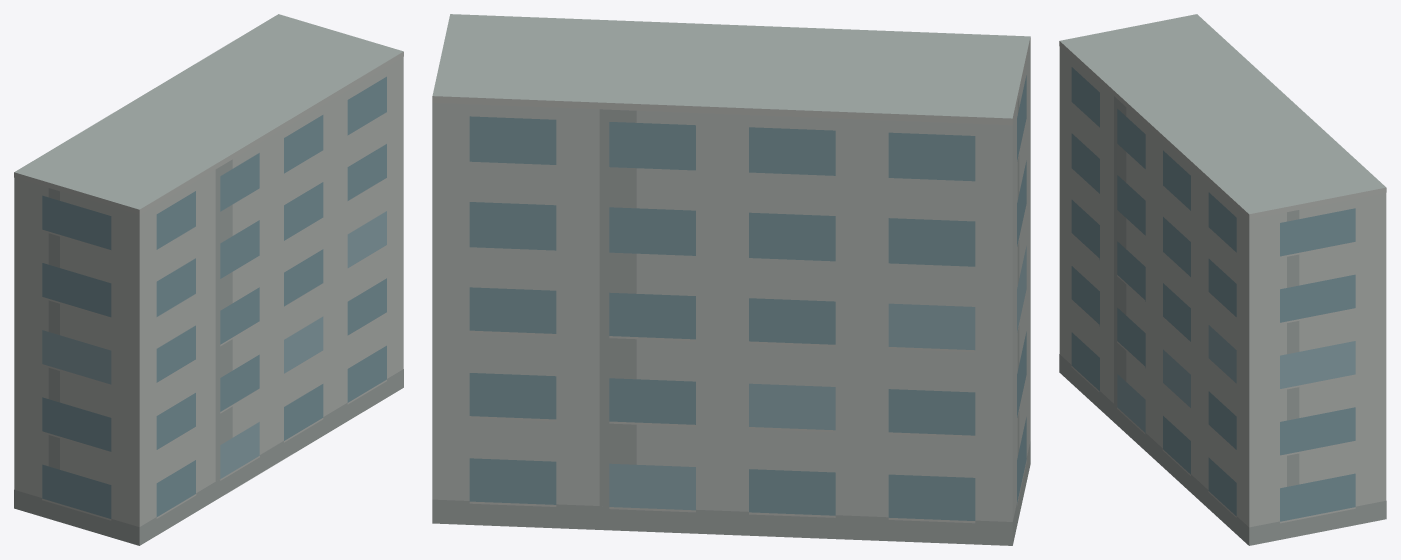
The model's file is residential-ed66a0ac-1b6c-4c06-b605-7b9136b1edfc.glb.
The picture shows the model from 3 angles, left to right: view 1: azimuth 30°, elevation 25°; view 2: azimuth 150°, elevation 25°; view 3: azimuth 270°, elevation 25°; orthographic projection. The views are drawn at different scales.
Parts seen in each view (by area): view 1: residential-ed66a0ac-1b6c-4c06-b605-7b9136b1edfc.tmp; view 2: residential-ed66a0ac-1b6c-4c06-b605-7b9136b1edfc.tmp; view 3: residential-ed66a0ac-1b6c-4c06-b605-7b9136b1edfc.tmp.
Boxes of the visible parts, x1,y1,x2,y2 form: residential-ed66a0ac-1b6c-4c06-b605-7b9136b1edfc.tmp: (14, 14, 403, 545); residential-ed66a0ac-1b6c-4c06-b605-7b9136b1edfc.tmp: (432, 14, 1030, 545); residential-ed66a0ac-1b6c-4c06-b605-7b9136b1edfc.tmp: (1059, 14, 1386, 545).
Bounding box in the file's own units: 19.76 × 15.25 × 13.64.
